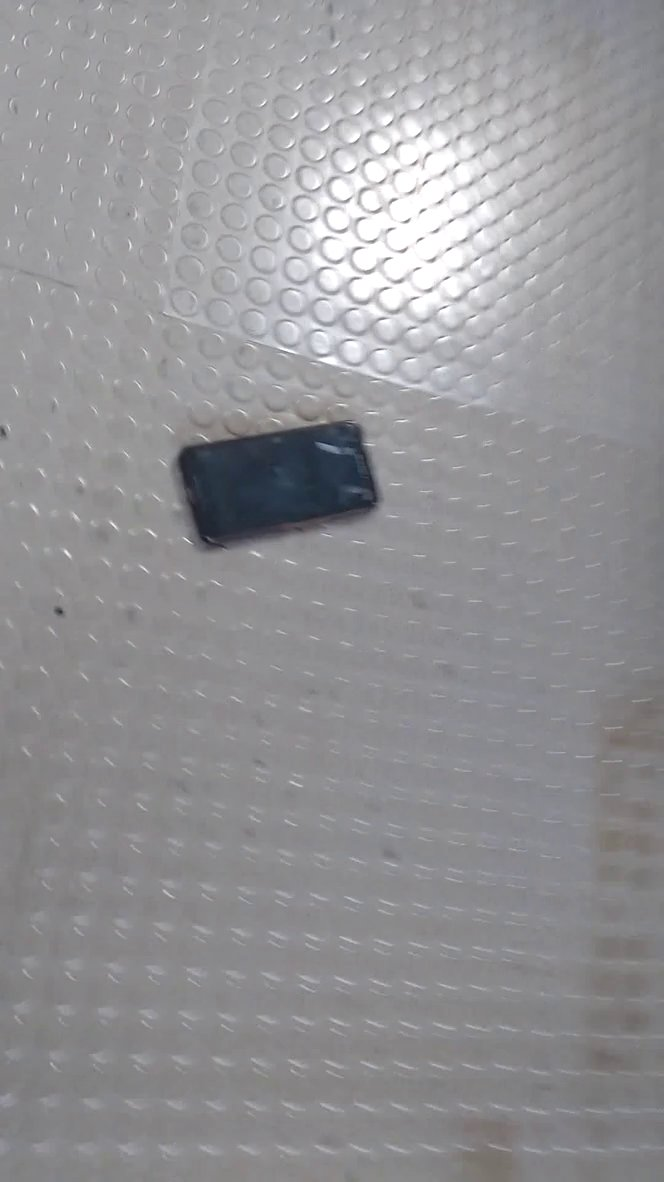phone: (170, 408, 393, 566)
